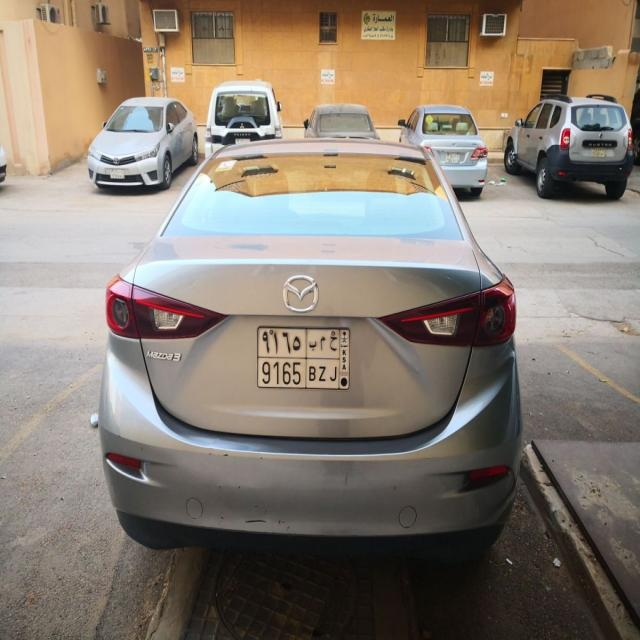license_plate: (255, 325, 353, 393)
